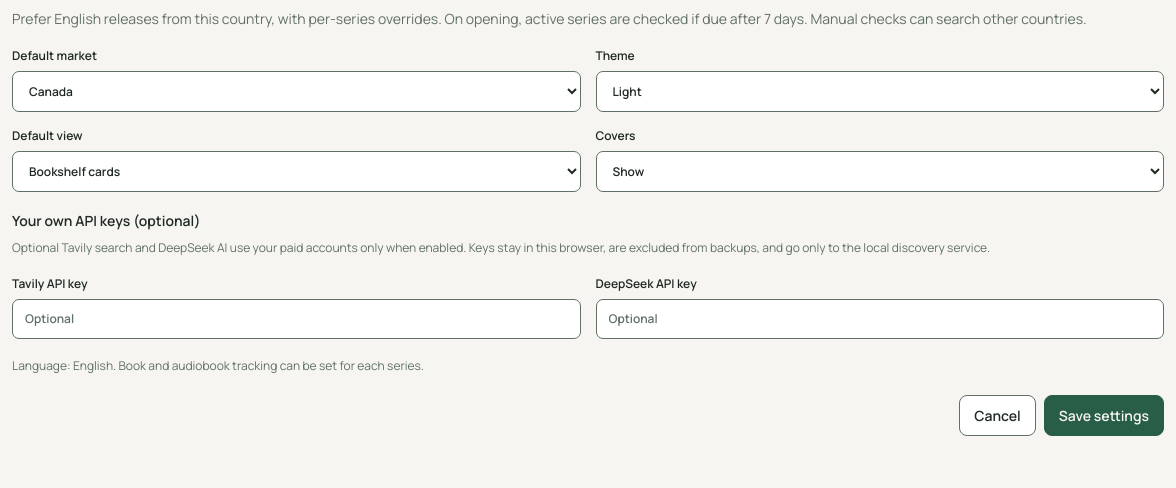
Test: a malformed key is refused with a message and nothing is saved
Type "short" into the password field labelled "DeepSeek API key".
click(880, 319); type("short")  # box 596,299 -> 1164,339
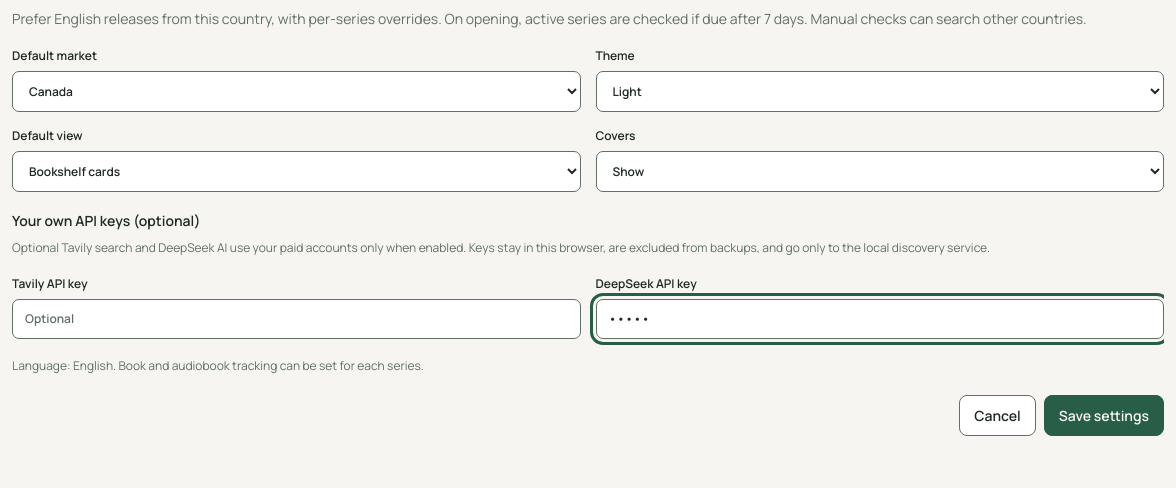
Click the button "Save settings".
click(1104, 416)  # box 1044,395 -> 1164,436
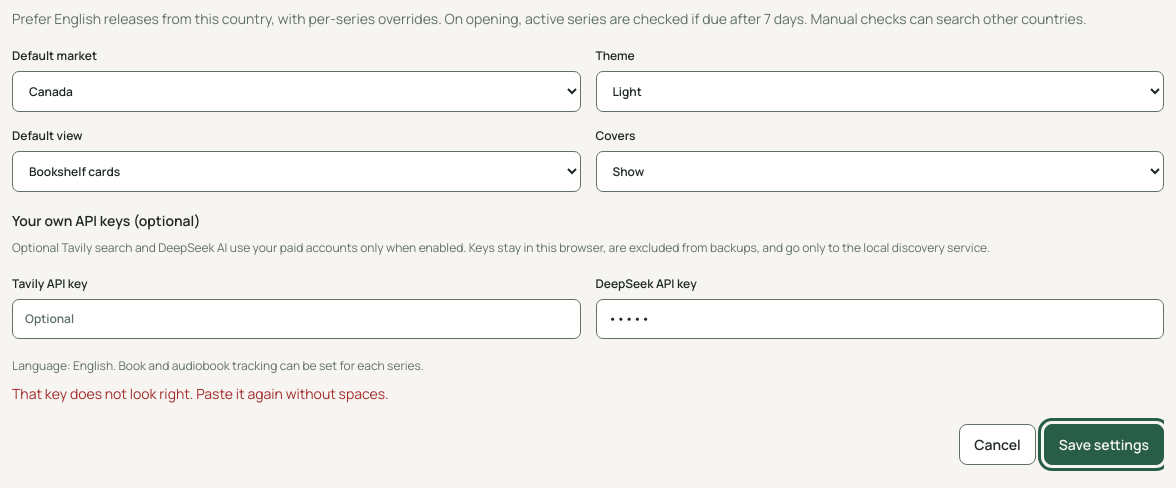
Now the message shows "does not look right", box 12,384 -> 389,403
